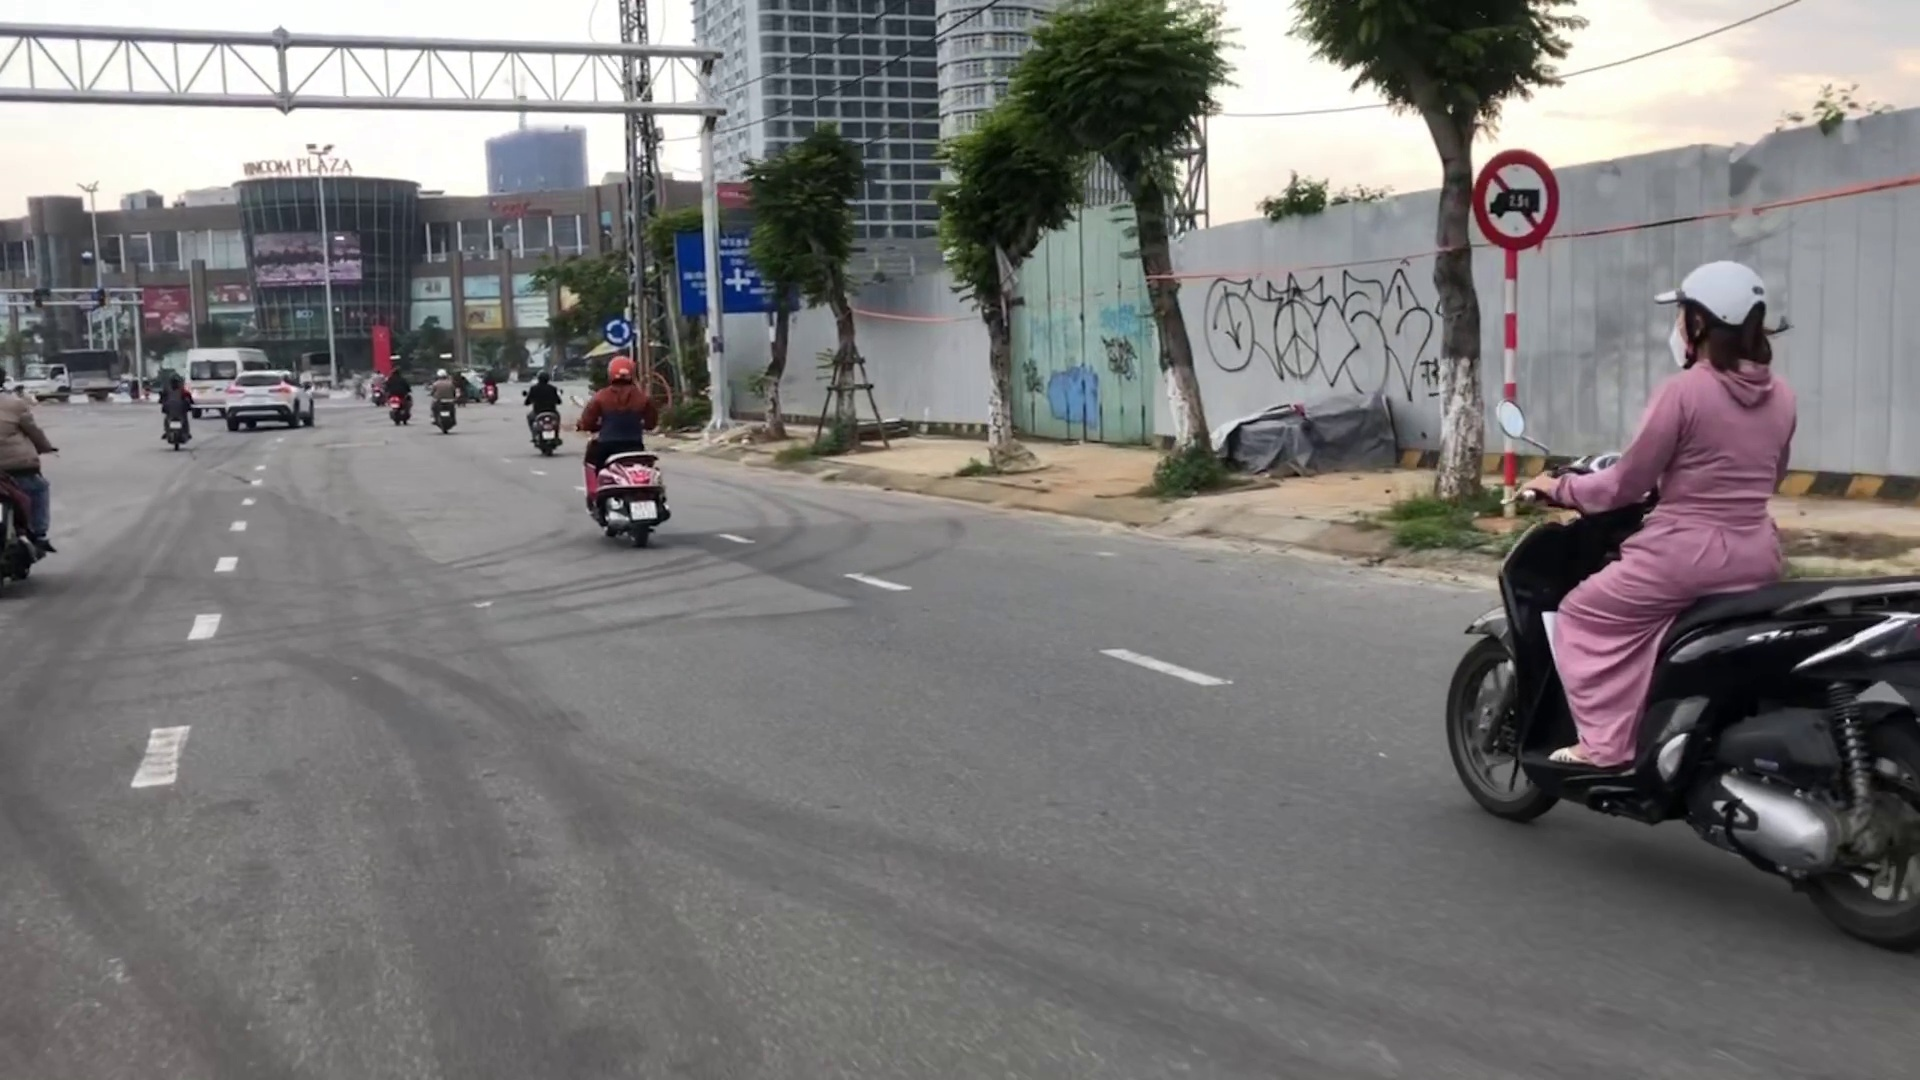Bien khac: (1470, 141, 1561, 255), (601, 318, 632, 343)
